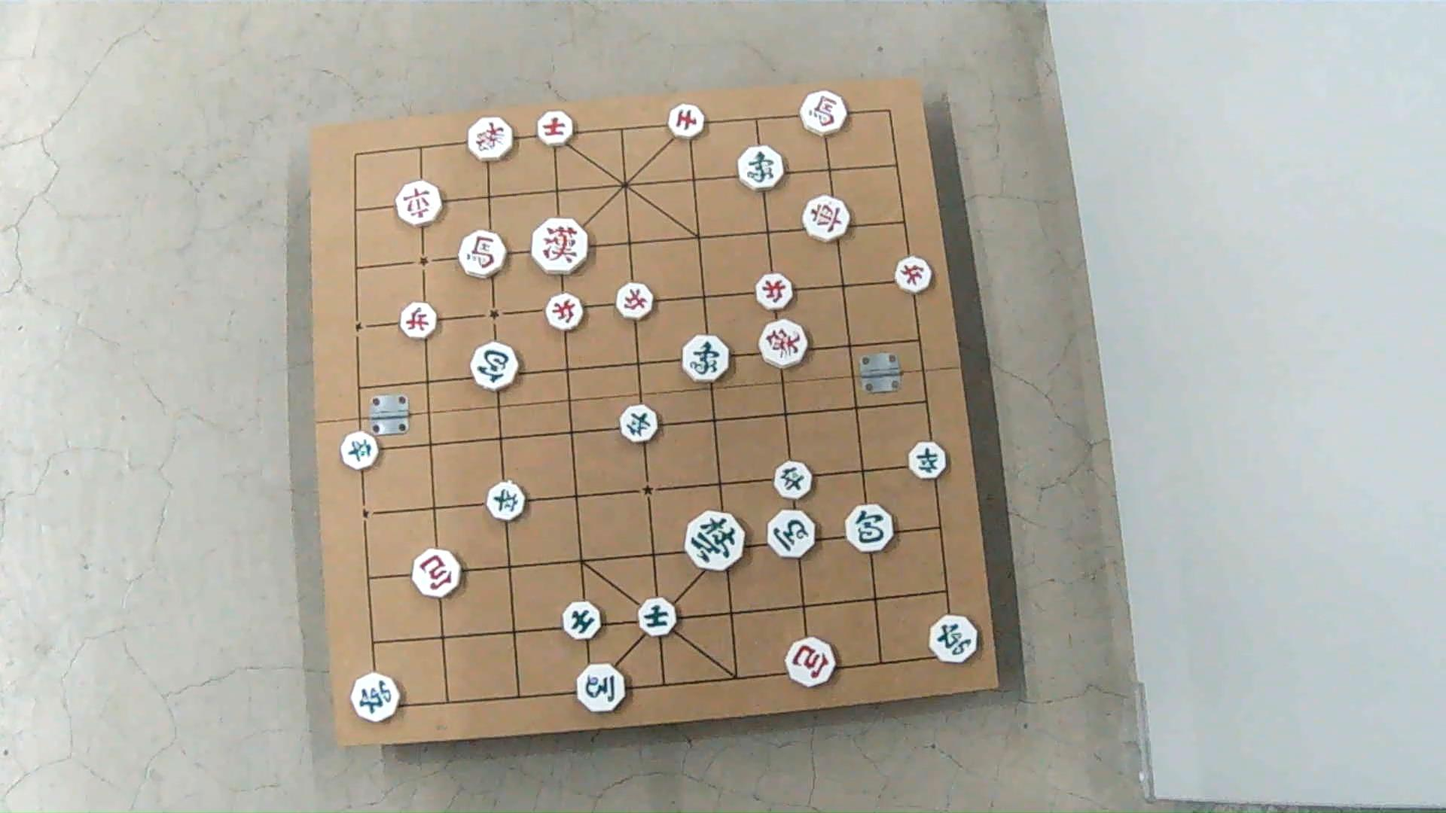cha_green: (353, 674, 402, 723), (931, 617, 980, 664)
cha_red: (801, 195, 850, 241), (397, 182, 444, 227)
jol_green: (774, 462, 813, 501), (343, 432, 382, 470), (909, 440, 948, 477), (486, 483, 523, 522), (621, 404, 658, 442)
jol_red: (615, 282, 653, 319), (399, 304, 438, 340), (756, 273, 794, 309), (548, 295, 585, 331), (895, 257, 930, 294)
ma_green: (579, 664, 627, 712), (769, 510, 816, 558)
ma_red: (458, 230, 504, 278), (801, 93, 847, 137)
po_green: (844, 504, 892, 552), (471, 343, 518, 391)
po_red: (786, 638, 834, 688), (412, 548, 460, 597)
sa_green: (563, 601, 602, 640), (639, 599, 676, 638)
sa_red: (537, 111, 574, 147), (670, 104, 706, 139)
sang_green: (684, 335, 731, 381), (738, 145, 786, 190)
sang_red: (758, 318, 808, 368), (467, 116, 514, 160)
wang_green: (686, 512, 746, 572)
wang_red: (534, 217, 590, 275)
